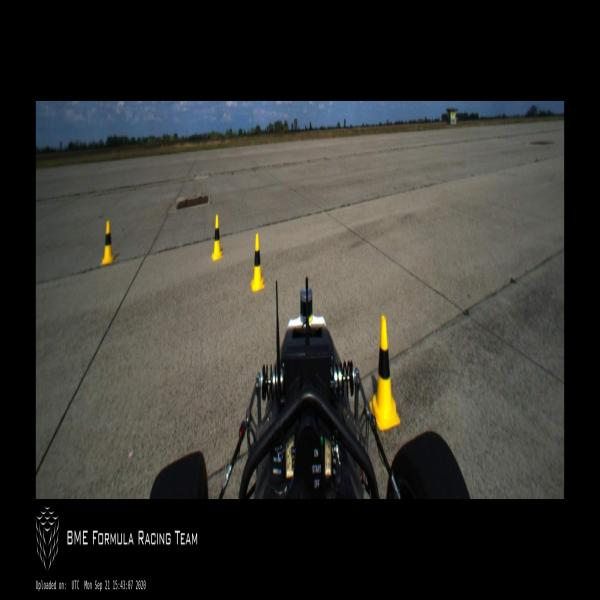yellow_cone: (370, 316, 399, 428), (251, 234, 265, 290), (101, 221, 114, 265), (212, 216, 223, 259)
